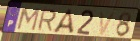2: (76, 9, 94, 36)
8: (114, 11, 134, 38)
A: (52, 8, 75, 35)
M: (15, 7, 42, 32)
R: (36, 9, 58, 32)
V: (99, 10, 117, 36)
